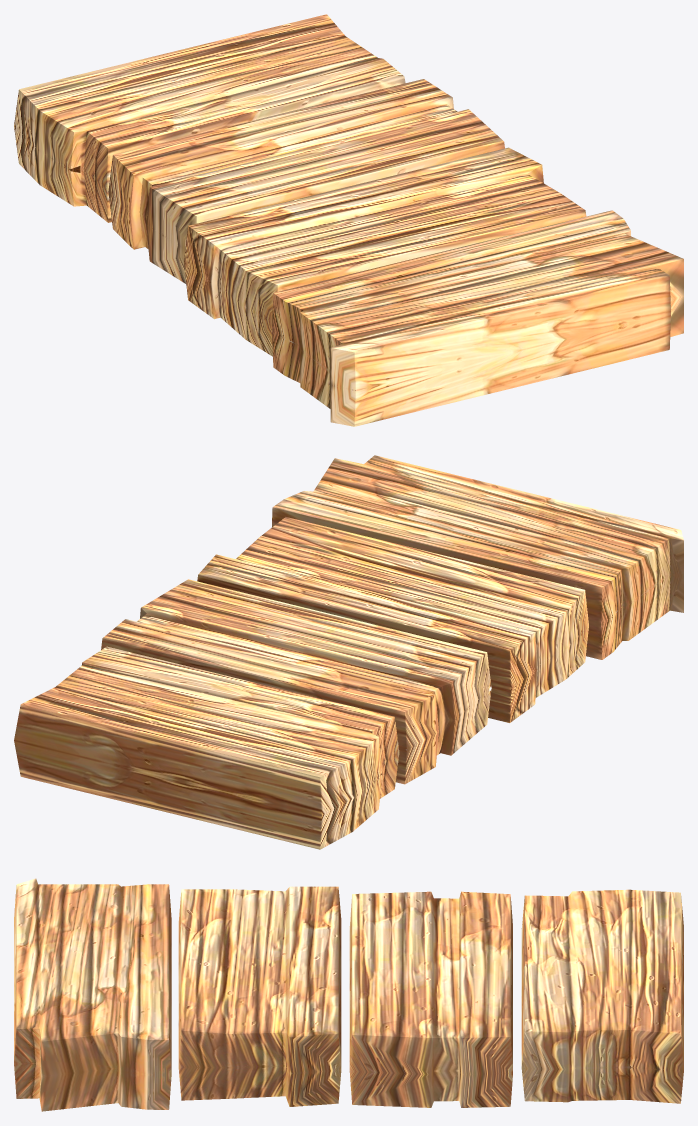
The model's file is 89047dd4-2ddb-4bbd-a094-0195d1d0e1d8.glb.
The picture shows the model from 3 angles, top to bottom: view 1: azimuth 30°, elevation 25°; view 2: azimuth 150°, elevation 25°; view 3: azimuth 270°, elevation 25°; orthographic projection. The views are drawn at different scales.
Visible parts, largest first — view 1: SteampunkPlatformPathSimple; view 2: SteampunkPlatformPathSimple; view 3: SteampunkPlatformPathSimple.
Part boxes in pixels (x1=…): SteampunkPlatformPathSimple: x1=14, y1=14, x2=683, y2=426; SteampunkPlatformPathSimple: x1=14, y1=455, x2=683, y2=849; SteampunkPlatformPathSimple: x1=14, y1=878, x2=683, y2=1111.
Size of what is drawn, in the model's own units: 2.25 by 0.4502 by 3.91.
Materials: 1 (1 with a texture image).
